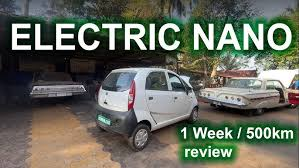Nano: (95, 68, 201, 150)
